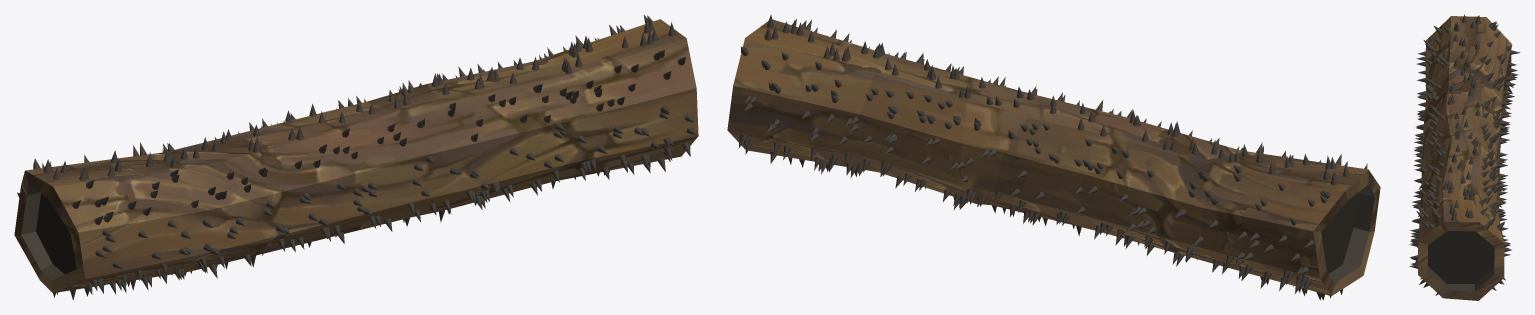
Rendered from Tronco Rolar.fbx.
The picture shows the model from 3 angles, left to right: view 1: azimuth 30°, elevation 25°; view 2: azimuth 150°, elevation 25°; view 3: azimuth 270°, elevation 25°; orthographic projection. The views are drawn at different scales.
Visible parts, largest first — view 1: pCylinder2; view 2: pCylinder2; view 3: pCylinder2.
Part boxes in pixels (left/top/right/bottom): pCylinder2: left=14, top=14, right=698, bottom=300; pCylinder2: left=727, top=14, right=1380, bottom=300; pCylinder2: left=1409, top=14, right=1520, bottom=300.
Bounding box in the file's own units: 9.63 × 2.07 × 2.2.
